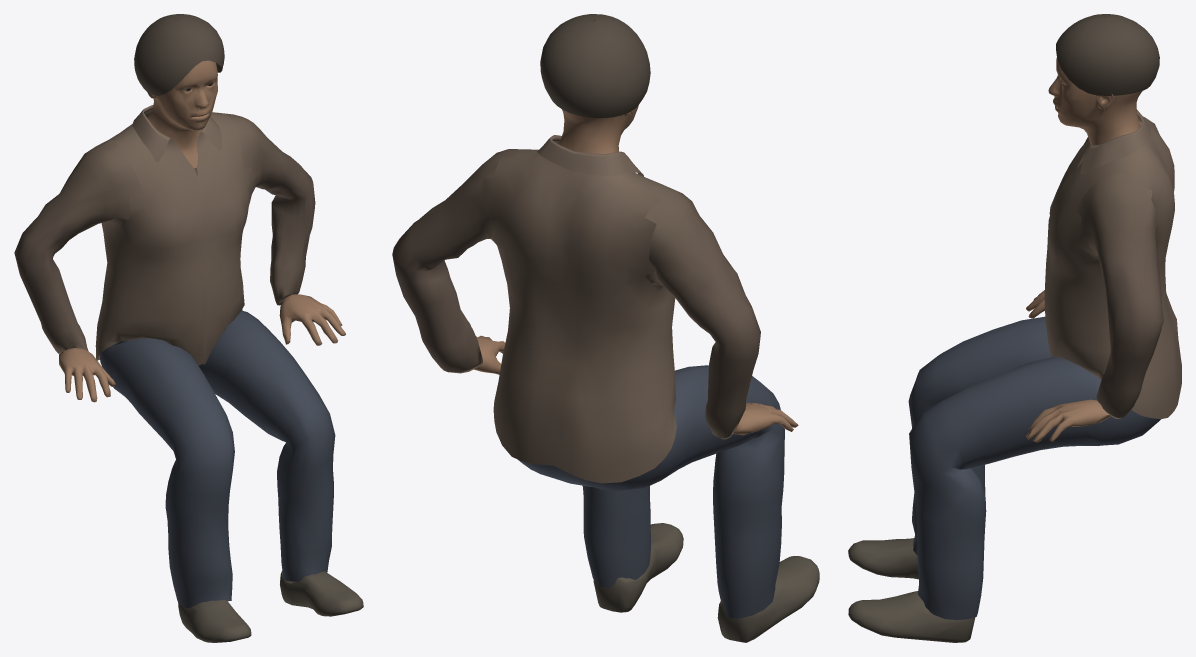
File: participant-13-middle.glb
3 renders of one model, left to right at view 1: azimuth 30°, elevation 25°; view 2: azimuth 150°, elevation 25°; view 3: azimuth 270°, elevation 25°, orthographic. The views are drawn at different scales.
Visible parts, largest first — view 1: Participant anatomy and ordinary clothes; view 2: Participant anatomy and ordinary clothes; view 3: Participant anatomy and ordinary clothes.
Boxes of the visible parts, box(x1,y1,x2,y2) form: Participant anatomy and ordinary clothes: box(14, 14, 363, 642); Participant anatomy and ordinary clothes: box(392, 14, 819, 642); Participant anatomy and ordinary clothes: box(848, 14, 1181, 642).
Bounding box in the file's own units: 0.7787 × 1.37 × 0.6984.
